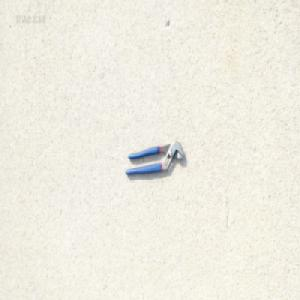Pliers: (123, 136, 183, 174)
